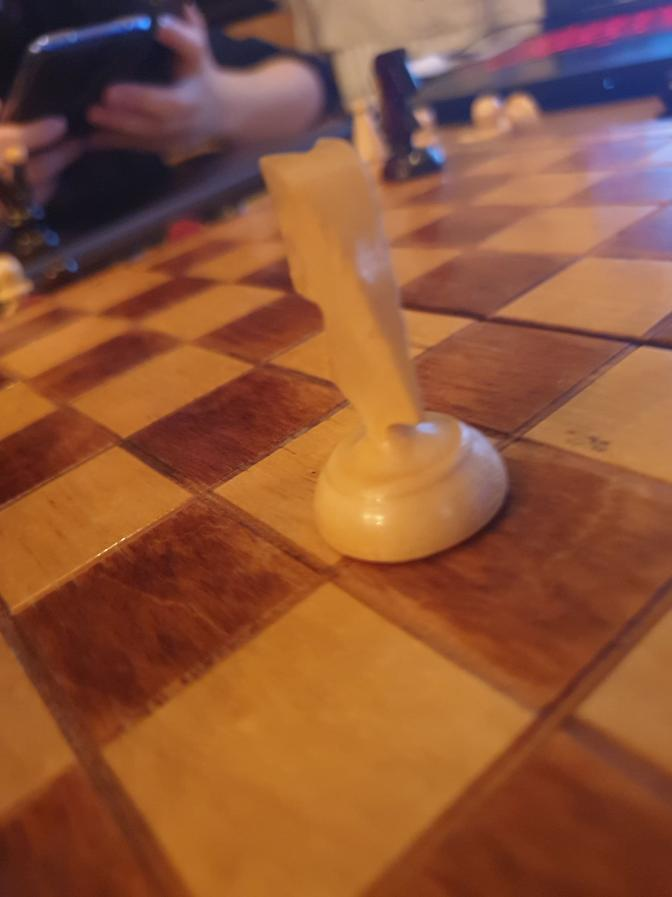wknight: (257, 137, 513, 565)
